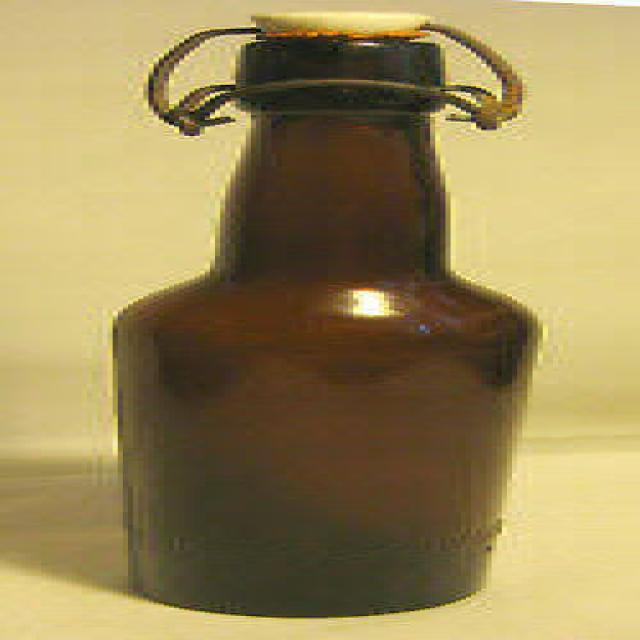Glass: (107, 42, 538, 618)
